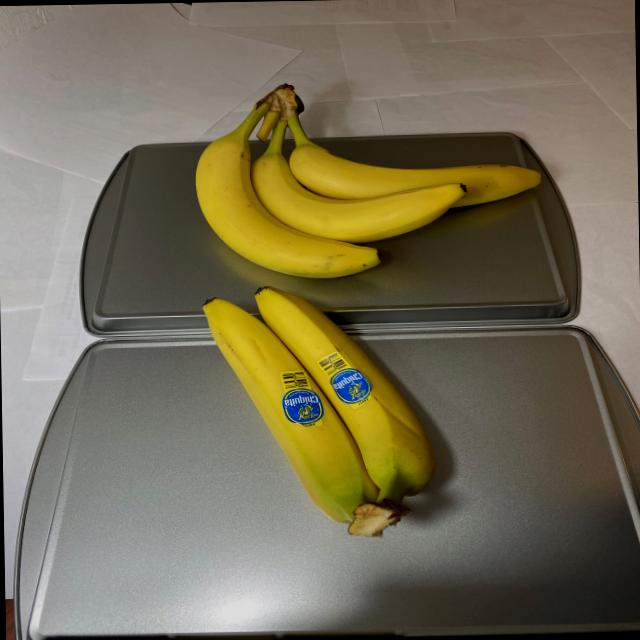banana: (188, 78, 546, 280), (197, 282, 441, 537)
